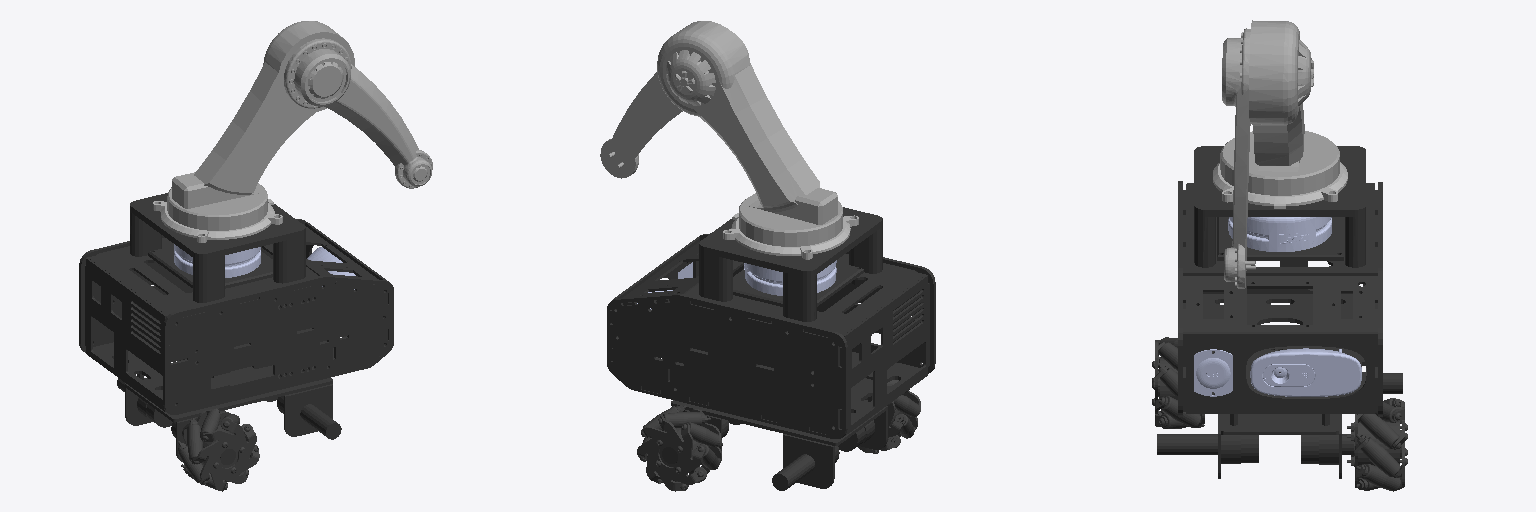
The robot description file, URDF, robot "agv_ros":
<?xml version="1.0"?>
<!-- This URDF was automatically created by SolidWorks to URDF Exporter! Originally created by Stephen Brawner (brawner@gmail.com) 
     Commit Version: 1.6.0-4-g7f85cfe  Build Version: 1.6.7995.38578
     For more information, please see http://wiki.ros.org/sw_urdf_exporter -->
<robot
  name="agv_ros">
  <link
    name="base_link">
    <inertial>
      <origin
        xyz="-0.00119053906143674 0.000176947403296851 0.0585575515702573"
        rpy="0 0 0" />
      <mass
        value="10" />
      <inertia
        ixx="0.000488430356749696"
        ixy="-1.61674760552789E-07"
        ixz="8.89340811442663E-06"
        iyy="0.000735532461305397"
        iyz="-2.79410615597662E-07"
        izz="0.00104164866364385" />
    </inertial>
    <visual>
      <origin
        xyz="0 0 0"
        rpy="0 0 0" />
      <geometry>
        <mesh
          filename="package://agv_ros/meshes/base_link.STL" />
      </geometry>
      <material
        name="">
        <color
          rgba="0.270588235294118 0.270588235294118 0.270588235294118 1" />
      </material>
    </visual>
    <collision>
      <origin
        xyz="0 0 0"
        rpy="0 0 0" />
      <geometry>
        <mesh
          filename="package://agv_ros/meshes/base_link.STL" />
      </geometry>
    </collision>
  </link>
  <link
    name="front_left">
    <inertial>
      <origin
        xyz="3.34415344401297E-05 -0.0165234096739332 -9.96715808939883E-06"
        rpy="0 0 0" />
      <mass
        value="0.0462990889731472" />
      <inertia
        ixx="5.02475713243527E-06"
        ixy="-7.07388466172052E-10"
        ixz="4.51430128435127E-10"
        iyy="6.32652725267394E-06"
        iyz="-8.2614230705414E-10"
        izz="5.02489742459376E-06" />
    </inertial>
    <visual>
      <origin
        xyz="0 0 0"
        rpy="0 0 0" />
      <geometry>
        <mesh
          filename="package://agv_ros/meshes/front_left.STL" />
      </geometry>
      <material
        name="">
        <color
          rgba="0.301960784313725 0.301960784313725 0.301960784313725 1" />
      </material>
    </visual>
    <collision>
      <origin
        xyz="0 0 0"
        rpy="1.5708 0 0" />
      <geometry>
        <cylinder
          radius="0.05"
          length="0.03" />
      </geometry>
    </collision>
  </link>
  <joint
    name="Frontleft_joint"
    type="continuous">
    <origin
      xyz="0.0468000000000123 0.0794634000000287 -0.017779999999999"
      rpy="0 0 0" />
    <parent
      link="base_link" />
    <child
      link="front_left" />
    <axis
      xyz="0 -1 0" />
    <limit
      effort="50"
      velocity="10" />
    <dynamics
      damping="0.01"
      friction="0.0" />
  </joint>
  <link
    name="front_right">
    <inertial>
      <origin
        xyz="-3.55772632004703E-06 0.0165234096670951 -3.47134566110775E-05"
        rpy="0 0 0" />
      <mass
        value="0.0462990890135422" />
      <inertia
        ixx="5.02519558755712E-06"
        ixy="-1.03365233612496E-09"
        ixz="2.7025083922104E-10"
        iyy="6.32652724612357E-06"
        iyz="-3.38330489866918E-10"
        izz="5.024458969259E-06" />
    </inertial>
    <visual>
      <origin
        xyz="0 0 0"
        rpy="0 0 0" />
      <geometry>
        <mesh
          filename="package://agv_ros/meshes/front_right_mirrored.STL" />
      </geometry>
      <material
        name="">
        <color
          rgba="0.301960784313725 0.301960784313725 0.301960784313725 1" />
      </material>
    </visual>
    <collision>
      <origin
        xyz="0 0 0"
        rpy="1.5708 0 0" />
      <geometry>
        <cylinder
          radius="0.05"
          length="0.03" />
      </geometry>
    </collision>
  </link>
  <joint
    name="FrontRight_joint"
    type="continuous">
    <origin
      xyz="0.0467999999999944 -0.0798228000000289 -0.017780000000011"
      rpy="0 0 0" />
    <parent
      link="base_link" />
    <child
      link="front_right" />
    <axis
      xyz="0 1 0" />
    <limit
      effort="50"
      velocity="10" />
    <dynamics
      damping="0.01"
      friction="0.0" />
  </joint>
  <link
    name="back_left">
    <inertial>
      <origin
        xyz="3.34415344113298E-05 -0.0165234096739332 -9.96715808100276E-06"
        rpy="0 0 3.14159" />
      <mass
        value="0.0462990889731472" />
      <inertia
        ixx="5.02475713243527E-06"
        ixy="-7.07388466171891E-10"
        ixz="4.51430128434854E-10"
        iyy="6.32652725267394E-06"
        iyz="-8.26142307053987E-10"
        izz="5.02489742459376E-06" />
    </inertial>
    <visual>
      <origin
        xyz="0 0 0"
        rpy="0 0 3.14159" />
      <geometry>
        <mesh
          filename="package://agv_ros/meshes/back_left_mirrored.STL" />
      </geometry>
      <material
        name="">
        <color
          rgba="0.301960784313725 0.301960784313725 0.301960784313725 1" />
      </material>
    </visual>
    <collision>
      <origin
        xyz="0 0 0"
        rpy="1.5708 0 0" />
      <geometry>
        <cylinder
          radius="0.05"
          length="0.03" />
      </geometry>
    </collision>
  </link>
  <joint
    name="BackLeft_joint"
    type="continuous">
    <origin
      xyz="-0.0453003999999591 0.0794634000000286 -0.0177800000000074"
      rpy="0 0 0" />
    <parent
      link="base_link" />
    <child
      link="back_left" />
    <axis
      xyz="0 -1 0" />
    <limit
      effort="50"
      velocity="10" />
    <dynamics
      damping="0.01"
      friction="0.0" />
  </joint>
  <link
    name="back_right">
    <inertial>
      <origin
        xyz="-3.55772632003315E-06 0.0165234096670951 -3.47134566110498E-05"
        rpy="0 0 0" />
      <mass
        value="0.0462990890135422" />
      <inertia
        ixx="5.02519558755712E-06"
        ixy="-1.03365233612524E-09"
        ixz="2.70250839219757E-10"
        iyy="6.32652724612357E-06"
        iyz="-3.38330489866705E-10"
        izz="5.024458969259E-06" />
    </inertial>
    <visual>
      <origin
        xyz="0 0 0"
        rpy="0 0 0" />
      <geometry>
        <mesh
          filename="package://agv_ros/meshes/back_right.STL" />
      </geometry>
      <material
        name="">
        <color
          rgba="0.301960784313725 0.301960784313725 0.301960784313725 1" />
      </material>
    </visual>
    <collision>
      <origin
        xyz="0 0 0"
        rpy="1.5708 0 0" />
      <geometry>
        <cylinder
          radius="0.05"
          length="0.03" />
      </geometry>
    </collision>
  </link>
  <joint
    name="BackRight_joint"
    type="continuous">
    <origin
      xyz="-0.0453004000000056 -0.0798228000000288 -0.017780000000011"
      rpy="0 0 0" />
    <parent
      link="base_link" />
    <child
      link="back_right" />
    <axis
      xyz="0 1 0" />
    <limit
      effort="50"
      velocity="10" />
    <dynamics
      damping="0.01"
      friction="0.0" />
  </joint>
  <link
    name="lidar">
    <inertial>
      <origin
        xyz="8.75598307271686E-05 2.45719922700033E-05 0.0136799210635855"
        rpy="0 0 0" />
      <mass
        value="0.0898604100581048" />
      <inertia
        ixx="2.85627915714696E-05"
        ixy="-6.06790188056003E-08"
        ixz="2.13425384222246E-08"
        iyy="2.8761600068061E-05"
        iyz="6.03457647574362E-09"
        izz="4.62610264513428E-05" />
    </inertial>
    <visual>
      <origin
        xyz="0 0 0"
        rpy="0 0 0" />
      <geometry>
        <mesh
          filename="package://agv_ros/meshes/lidar.STL" />
      </geometry>
      <material
        name="">
        <color
          rgba="0.792156862745098 0.819607843137255 0.933333333333333 1" />
      </material>
    </visual>
    <collision>
      <origin
        xyz="0 0 0"
        rpy="0 0 0" />
      <geometry>
        <mesh
          filename="package://agv_ros/meshes/lidar.STL" />
      </geometry>
    </collision>
  </link>
  <joint
    name="Lidar_joint"
    type="fixed">
    <origin
      xyz="-0.0092064 0 0.10442"
      rpy="0 0 0" />
    <parent
      link="base_link" />
    <child
      link="lidar" />
    <axis
      xyz="0 0 0" />
    <dynamics
      damping="0.1"
      friction="10" />
  </joint>
  <link
    name="gps_joint">
    <inertial>
      <origin
        xyz="0.000694977460061641 -2.42915511064479E-06 -3.32643991463738E-06"
        rpy="0 0 0" />
      <mass
        value="0.000935319530363505" />
      <inertia
        ixx="9.62520585676608E-08"
        ixy="3.44346358031668E-12"
        ixz="-1.03882523842337E-13"
        iyy="5.7335346190715E-08"
        iyz="-9.18412331237469E-13"
        izz="3.93390740510555E-08" />
    </inertial>
    <visual>
      <origin
        xyz="0 0 0"
        rpy="0 0 0" />
      <geometry>
        <mesh
          filename="package://agv_ros/meshes/gps_joint.STL" />
      </geometry>
      <material
        name="">
        <color
          rgba="0.792156862745098 0.819607843137255 0.933333333333333 1" />
      </material>
    </visual>
    <collision>
      <origin
        xyz="0 0 0"
        rpy="0 0 0" />
      <geometry>
        <mesh
          filename="package://agv_ros/meshes/gps_joint.STL" />
      </geometry>
    </collision>
  </link>
  <joint
    name="GPS_joint"
    type="fixed">
    <origin
      xyz="0.10433 -0.0425 0.059456"
      rpy="0 0 0" />
    <parent
      link="base_link" />
    <child
      link="gps_joint" />
    <axis
      xyz="0 0 0" />
    <dynamics
      damping="0.1"
      friction="10" />
  </joint>
  <link
    name="camera_joint">
    <inertial>
      <origin
        xyz="-0.00348876218866281 0.000258238879071997 0.000266655846504031"
        rpy="0 0 0" />
      <mass
        value="0.0261448047763111" />
      <inertia
        ixx="9.35012569687527E-06"
        ixy="-3.12138622466714E-08"
        ixz="1.49324787665759E-08"
        iyy="2.06103630560299E-06"
        iyz="-3.26028865535605E-09"
        izz="8.52413750211695E-06" />
    </inertial>
    <visual>
      <origin
        xyz="0 0 0"
        rpy="0 0 0" />
      <geometry>
        <mesh
          filename="package://agv_ros/meshes/camera_joint.STL" />
      </geometry>
      <material
        name="">
        <color
          rgba="0.792156862745098 0.819607843137255 0.933333333333333 1" />
      </material>
    </visual>
    <collision>
      <origin
        xyz="0 0 0"
        rpy="0 0 0" />
      <geometry>
        <mesh
          filename="package://agv_ros/meshes/camera_joint.STL" />
      </geometry>
    </collision>
  </link>
  <joint
    name="Camera_joint"
    type="fixed">
    <origin
      xyz="0.104334292145 0.0165 0.0594555999999996"
      rpy="0 0 0" />
    <parent
      link="base_link" />
    <child
      link="camera_joint" />
    <axis
      xyz="0 0 0" />
    <dynamics
      damping="0.1"
      friction="10" />
  </joint>
  <link
    name="basearm">
    <inertial>
      <origin
        xyz="9.22739665732975E-05 -1.25701476214046E-06 0.00255267654186053"
        rpy="0 0 0" />
      <mass
        value="0.0296332406525964" />
      <inertia
        ixx="1.36039293241669E-05"
        ixy="-7.38500887504922E-15"
        ixz="4.14469205725875E-09"
        iyy="1.37249913080232E-05"
        iyz="1.72234751921517E-17"
        izz="2.71729039784413E-05" />
    </inertial>
    <visual>
      <origin
        xyz="0 0 0"
        rpy="0 0 0" />
      <geometry>
        <mesh
          filename="package://agv_ros/meshes/basearm.STL" />
      </geometry>
      <material
        name="">
        <color
          rgba="0.749019607843137 0.749019607843137 0.749019607843137 1" />
      </material>
    </visual>
    <collision>
      <origin
        xyz="0 0 0"
        rpy="0 0 0" />
      <geometry>
        <mesh
          filename="package://agv_ros/meshes/basearm.STL" />
      </geometry>
    </collision>
  </link>
  <joint
    name="BaseArm"
    type="fixed">
    <origin
      xyz="-0.00921832440323599 0 0.143150698447992"
      rpy="0 0 0" />
    <parent
      link="base_link" />
    <child
      link="basearm" />
    <axis
      xyz="0 0 0" />
  </joint>
  <link
    name="arm_joint1">
    <inertial>
      <origin
        xyz="0.0388842012092648 -0.00158881731775529 0.0623511158104539"
        rpy="0 0 0" />
      <mass
        value="0.270186283992713" />
      <inertia
        ixx="0.000507722802221126"
        ixy="9.88499769226239E-06"
        ixz="-0.000358904472187945"
        iyy="0.000841441845785256"
        iyz="1.08994851899646E-05"
        izz="0.000410938661062764" />
    </inertial>
    <visual>
      <origin
        xyz="0 0 0"
        rpy="0 0 0" />
      <geometry>
        <mesh
          filename="package://agv_ros/meshes/arm_joint1.STL" />
      </geometry>
      <material
        name="">
        <color
          rgba="0.67843137254902 0.67843137254902 0.67843137254902 1" />
      </material>
    </visual>
    <collision>
      <origin
        xyz="0 0 0"
        rpy="0 0 0" />
      <geometry>
        <mesh
          filename="package://agv_ros/meshes/arm_joint1.STL" />
      </geometry>
    </collision>
  </link>
  <joint
    name="Arm_joint1"
    type="continuous">
    <origin
      xyz="0 0 0.00508"
      rpy="0 0 0" />
    <parent
      link="basearm" />
    <child
      link="arm_joint1" />
    <axis
      xyz="0 0 1" />
    <limit
      effort="10.0"
      velocity="1.5" />
    <dynamics
      damping="0.1"
      friction="10" />
  </joint>
  <link
    name="arm_joint2">
    <inertial>
      <origin
        xyz="0.0253172488394307 -0.0266087058656372 0.00330822591848871"
        rpy="0 0 0" />
      <mass
        value="0.0533454706493746" />
      <inertia
        ixx="7.27072522722006E-05"
        ixy="5.84025157696102E-05"
        ixz="-2.17855487483276E-07"
        iyy="5.9127688488704E-05"
        iyz="2.89033837690945E-07"
        izz="0.000129815886292191" />
    </inertial>
    <visual>
      <origin
        xyz="0 0 0"
        rpy="0 0 0" />
      <geometry>
        <mesh
          filename="package://agv_ros/meshes/arm_joint2.STL" />
      </geometry>
      <material
        name="">
        <color
          rgba="0.67843137254902 0.67843137254902 0.67843137254902 1" />
      </material>
    </visual>
    <collision>
      <origin
        xyz="0 0 0"
        rpy="0 0 0" />
      <geometry>
        <mesh
          filename="package://agv_ros/meshes/arm_joint2.STL" />
      </geometry>
    </collision>
  </link>
  <joint
    name="Arm_joint2"
    type="revolute">
    <origin
      xyz="0.075316 -0.022291 0.10414"
      rpy="1.5708 0 0" />
    <parent
      link="arm_joint1" />
    <child
      link="arm_joint2" />
    <axis
      xyz="0.042759 0 -0.99909" />
    <limit
      lower="-1.75"
      upper="0.593"
      effort="10.0"
      velocity="1.0" />
    <dynamics
      damping="0.1"
      friction="10" />
  </joint>
  
<link name="camera_link_optical"></link>

  <joint name="camera_optical_joint" type="fixed">
    <origin xyz="0 0 0" rpy="-1.5708 0 -1.5708"/>
    <parent link="camera_joint"/>
    <child link="camera_link_optical"/>
  </joint>
  
  <gazebo reference="camera_joint">
    <sensor type="camera" name="my_camera">
      <update_rate>30.0</update_rate>
      <visualize>true</visualize> 
      <camera name="head">
        <horizontal_fov>1.08</horizontal_fov>
        <image>
          <width>800</width>
          <height>800</height>
          <format>R8G8B8</format>
        </image>
        <clip>
          <near>0.02</near>
          <far>50</far>
        </clip>
      </camera>
      <plugin name="camera_controller" filename="libgazebo_ros_camera.so">
        <ros>
          <namespace>/</namespace>
          <remapping>image_raw:=custom_camera/image_raw</remapping>
          <remapping>camera_info:=custom_camera/camera_info</remapping>
        </ros>
        <frame_name>camera_link_optical</frame_name> 
      </plugin>
    </sensor>
  </gazebo>
  
  <gazebo reference="lidar">
    <sensor type="ray" name="head_hokuyo_sensor">
      <pose>0 0 0 0 0 0</pose>
      <visualize>true</visualize>
      <update_rate>10</update_rate>
      <ray>
        <scan>
          <horizontal>
            <samples>360</samples>
            <resolution>1</resolution>
            <min_angle>-3.14159</min_angle>
            <max_angle>3.14159</max_angle>
          </horizontal>
        </scan>
        <range>
          <min>0.10</min>
          <max>12.0</max>
          <resolution>0.01</resolution>
        </range>
        <noise>
          <type>gaussian</type>
          <mean>0.0</mean>
          <stddev>0.01</stddev>
        </noise>
      </ray>
      <plugin name="gazebo_ros_laser_controller" filename="libgazebo_ros_ray_sensor.so">
        <ros>
          <remapping>~/out:=scan</remapping>
        </ros>
        <output_type>sensor_msgs/LaserScan</output_type>
        <frame_name>lidar</frame_name>
      </plugin>
    </sensor>
  </gazebo>

 <gazebo reference="front_left">
    <mu1>0.2</mu1>
    <mu2>0.2</mu2>
    <kp>1000000.0</kp>
    <kd>100.0</kd>
    <minDepth>0.001</minDepth>
    <material>Gazebo/Grey</material>
  </gazebo>

  <gazebo reference="front_right">
    <mu1>0.2</mu1>
    <mu2>0.2</mu2>
    <kp>1000000.0</kp>
    <kd>100.0</kd>
    <minDepth>0.001</minDepth>
    <material>Gazebo/Grey</material>
  </gazebo>

  <gazebo reference="back_left">
    <mu1>0.2</mu1>
    <mu2>0.2</mu2>
    <kp>1000000.0</kp>
    <kd>100.0</kd>
    <minDepth>0.001</minDepth>
    <material>Gazebo/Grey</material>
  </gazebo>

  <gazebo reference="back_right">
    <mu1>0.2</mu1>
    <mu2>0.2</mu2>
    <kp>1000000.0</kp>
    <kd>100.0</kd>
    <minDepth>0.001</minDepth>
    <material>Gazebo/Grey</material>
  </gazebo>

  <gazebo reference="gps_joint">
    <sensor name="agv_gps" type="gps">
      <always_on>true</always_on>
      <update_rate>1.0</update_rate>
      <plugin name="gps_controller" filename="libgazebo_ros_gps_sensor.so">
        <ros>
          <remapping>~/out:=gps/data</remapping>
        </ros>
        <frame_name>gps_joint</frame_name>
      </plugin>
    </sensor>
  </gazebo>

  <ros2_control name="gazebo_arm_control" type="system">
    <hardware>
      <plugin>gazebo_ros2_control/GazeboSystem</plugin>
    </hardware>
    <joint name="Frontleft_joint">
      <command_interface name="velocity"/>
      <state_interface name="position"/>
      <state_interface name="velocity"/>
    </joint>
    <joint name="FrontRight_joint">
      <command_interface name="velocity"/>
      <state_interface name="position"/>
      <state_interface name="velocity"/>
    </joint>
    <joint name="BackLeft_joint">
      <command_interface name="velocity"/>
      <state_interface name="position"/>
      <state_interface name="velocity"/>
    </joint>
    <joint name="BackRight_joint">
      <command_interface name="velocity"/>
      <state_interface name="position"/>
      <state_interface name="velocity"/>
    </joint>
    <joint name="Arm_joint1">
      <command_interface name="position"/>
      <state_interface name="position"/>
      <state_interface name="velocity"/>
    </joint>
    <joint name="Arm_joint2">
      <command_interface name="position"/>
      <state_interface name="position"/>
      <state_interface name="velocity"/>
    </joint>
  </ros2_control>

  <gazebo>
    <plugin name="gazebo_ros_planar_move" filename="libgazebo_ros_planar_move.so">
      <ros>
        <namespace>/</namespace>
        <remapping>cmd_vel:=cmd_vel</remapping>
        <remapping>odometry:=odom</remapping>
      </ros>
      <update_rate>50.0</update_rate>
      <body_name>base_link</body_name>
      <odometry_frame>odom</odometry_frame>
      <robot_base_frame>base_link</robot_base_frame>
    </plugin>
    <plugin name="gazebo_ros2_control" filename="libgazebo_ros2_control.so">
      <parameters>__ARM_CONTROLLER_CONFIG__</parameters>
    </plugin>
  </gazebo>
  
  
  
</robot>

--- Render facts (derived) ---
3 views of the same robot in one strip: view 1: azimuth 30°, elevation 25°; view 2: azimuth 150°, elevation 25°; view 3: azimuth 270°, elevation 25° (orthographic).
Model agv_ros with 12 links and 11 joints (1 revolute, 5 continuous, 5 fixed), rooted at base_link, posed every joint at zero.
Links seen in each view (by area): view 1: base_link, arm_joint1, arm_joint2, back_right, basearm, lidar; view 2: base_link, arm_joint1, front_left, arm_joint2, basearm, back_right, lidar; view 3: base_link, arm_joint1, arm_joint2, camera_joint, front_left, lidar, back_right, basearm, gps_joint.
Boxes of the visible links, x1=… form: base_link: x1=79, y1=193, x2=393, y2=464; arm_joint1: x1=167, y1=21, x2=354, y2=230; arm_joint2: x1=284, y1=38, x2=432, y2=188; back_right: x1=177, y1=408, x2=259, y2=491; basearm: x1=153, y1=199, x2=282, y2=242; lidar: x1=174, y1=244, x2=260, y2=277; base_link: x1=607, y1=207, x2=935, y2=490; arm_joint1: x1=657, y1=21, x2=842, y2=246; front_left: x1=637, y1=405, x2=722, y2=491; arm_joint2: x1=600, y1=31, x2=749, y2=178; basearm: x1=723, y1=213, x2=858, y2=259; back_right: x1=858, y1=380, x2=920, y2=453; lidar: x1=744, y1=260, x2=836, y2=295; base_link: x1=1157, y1=146, x2=1402, y2=478; arm_joint1: x1=1220, y1=20, x2=1339, y2=195; arm_joint2: x1=1222, y1=28, x2=1255, y2=288; camera_joint: x1=1250, y1=348, x2=1361, y2=396; front_left: x1=1347, y1=398, x2=1407, y2=491; lidar: x1=1228, y1=217, x2=1331, y2=251; back_right: x1=1152, y1=337, x2=1204, y2=428; basearm: x1=1213, y1=162, x2=1347, y2=208; gps_joint: x1=1194, y1=349, x2=1232, y2=396.
Bounding box of the posed robot: 0.2558 × 0.1625 × 0.3329 m (x, y, z).
Meshes: 11 distinct files referenced, 9 mesh visuals loaded (9 binary STL); not drawn: 2 (reference not matched to a file when rendering).
